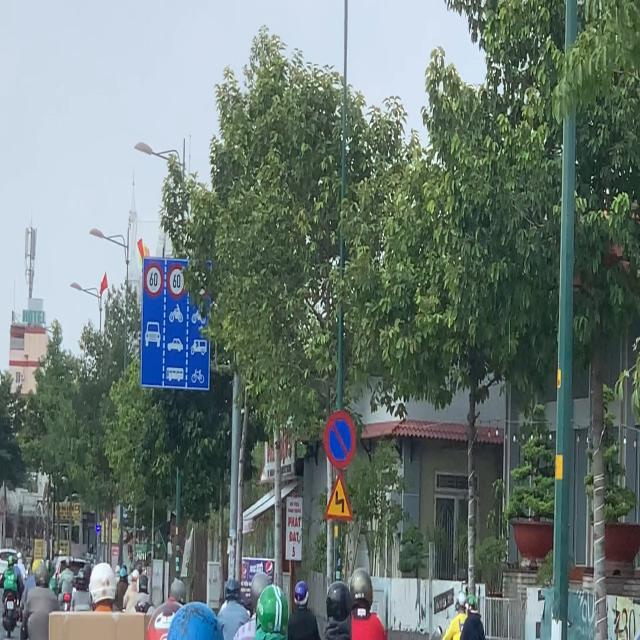Cam do: (324, 410, 356, 469)
Nguy hiem: (324, 472, 354, 521)
Toc do toi da: (167, 264, 187, 299), (144, 263, 164, 297)
